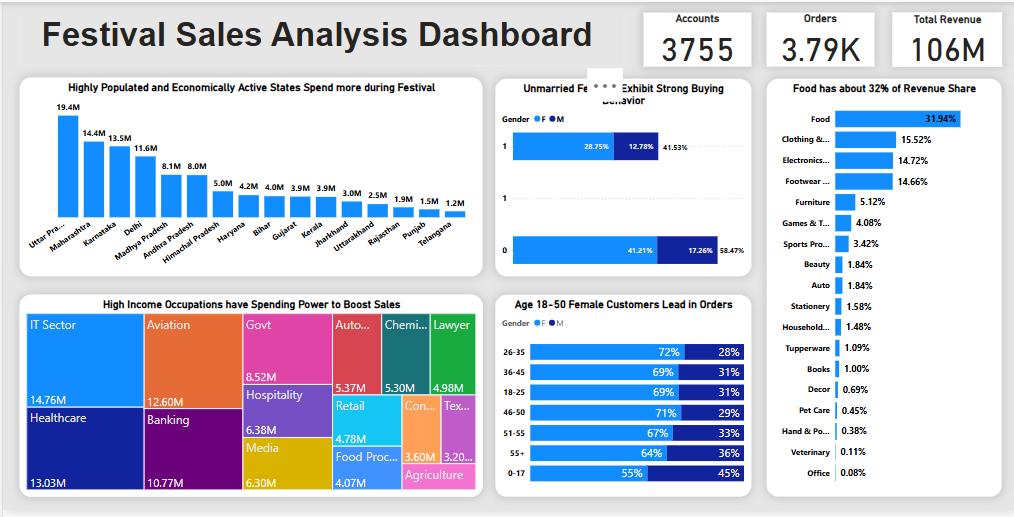

This screenshot's page, from the dashboard's own definition file:
{"tool":"powerbi","page":{"name":"Page 4","canvas":[1700,850],"ordinal":1},"visuals":[{"type":"clusteredBarChart","title":"Food has about 32% of Revenue Share ","fields":{"Category":["Sheet1.Product_Category"],"Y":["Sum(Sheet1.Amount)"]},"box":[1277.5,128,394,700.3],"z":0},{"type":"hundredPercentStackedBarChart","title":"Age 18-50 Female Customers Lead in Orders ","fields":{"Category":["Sheet1.Age_Group"],"Series":["Sheet1.Gender"],"Y":["CountNonNull(Sheet1.SNo)"]},"box":[823.2,489.4,429.2,338.8],"z":1000},{"type":"treemap","title":"High Income Occupations have Spending Power to Boost Sales ","fields":{"Group":["Sheet1.Occupation"],"Values":["Sum(Sheet1.Amount)"]},"box":[27.6,489.4,775.5,338.8],"z":2000},{"type":"barChart","title":"Unmarried Females Exhibit Strong Buying Behavior","fields":{"Category":["Sheet1.Marital_Status"],"Y":["Sum(Sheet1.Amount)"],"Series":["Sheet1.Gender"]},"box":[823.2,128,429.2,331.3],"z":3000},{"type":"clusteredColumnChart","title":"Highly Populated and Economically Active States Spend more during Festival","fields":{"Category":["Sheet1.State"],"Y":["Sum(Sheet1.Amount)"]},"box":[27.6,125.5,775.5,333.8],"z":4000},{"type":"card","title":"Total Revenue","fields":{"Values":["Sum(Sheet1.Amount)"]},"box":[1488.3,17.6,183.2,90.4],"z":5000},{"type":"card","title":"Orders ","fields":{"Values":["Sheet1.AOV"]},"box":[1277.5,17.6,180.7,90.4],"z":6000},{"type":"card","title":"Accounts","fields":{"Values":["Count(Sheet1.User_ID)"]},"box":[1071.7,17.6,180.7,90.4],"z":7000},{"type":"textbox","box":[27.6,17.6,1011.5,90.4],"z":8000}]}

Visuals, with their boxes in screenshot pixels (x1, y1, x2, y2), scaled from the page's 1700x850 canvas onto the 1014x517 screenshot:
"Food has about 32% of Revenue Share " clusteredBarChart: Rect(762, 78, 997, 504)
"Age 18-50 Female Customers Lead in Orders " hundredPercentStackedBarChart: Rect(491, 298, 747, 504)
"High Income Occupations have Spending Power to Boost Sales " treemap: Rect(16, 298, 479, 504)
"Unmarried Females Exhibit Strong Buying Behavior" barChart: Rect(491, 78, 747, 279)
"Highly Populated and Economically Active States Spend more during Festival" clusteredColumnChart: Rect(16, 76, 479, 279)
"Total Revenue" card: Rect(888, 11, 997, 66)
"Orders " card: Rect(762, 11, 870, 66)
"Accounts" card: Rect(639, 11, 747, 66)
textbox: Rect(16, 11, 620, 66)
